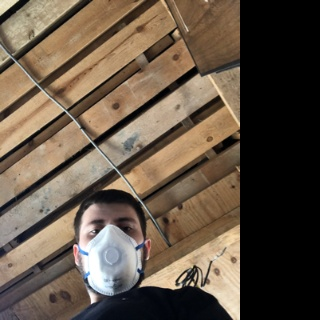with_mask: (80, 211, 145, 296)
